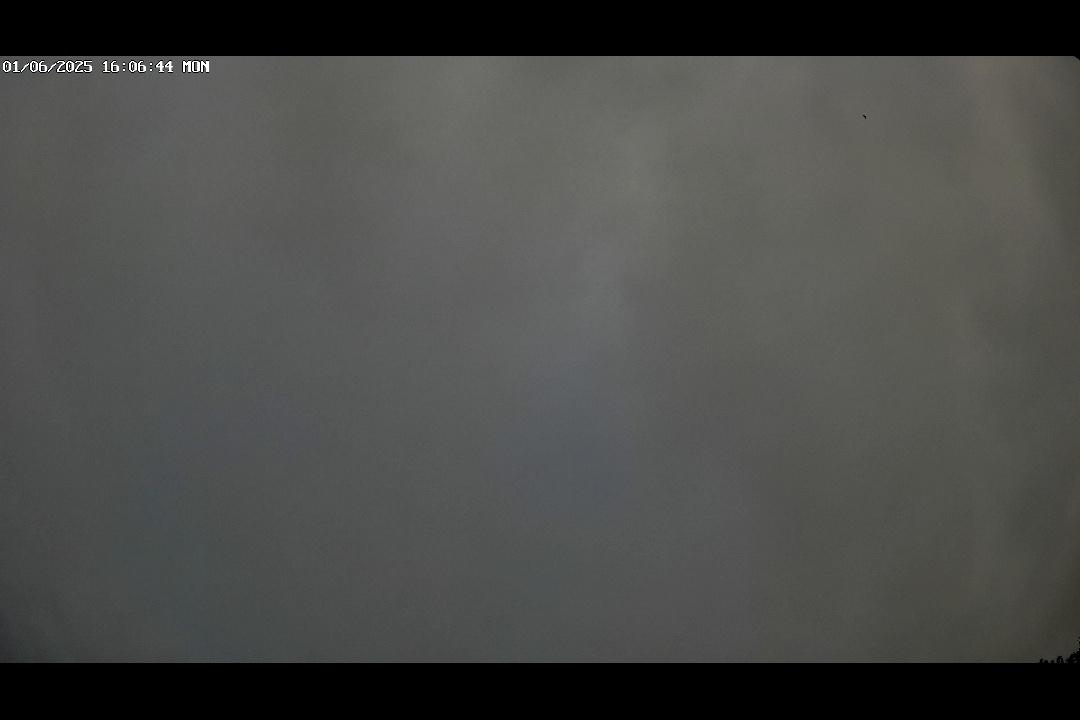WildLife: (854, 108, 877, 126)
